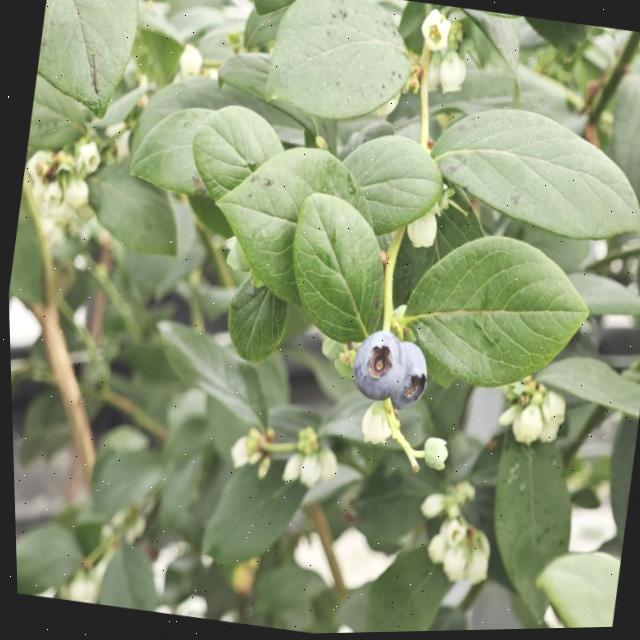RipeBlueBerry: (345, 328, 411, 408), (386, 340, 434, 415)
